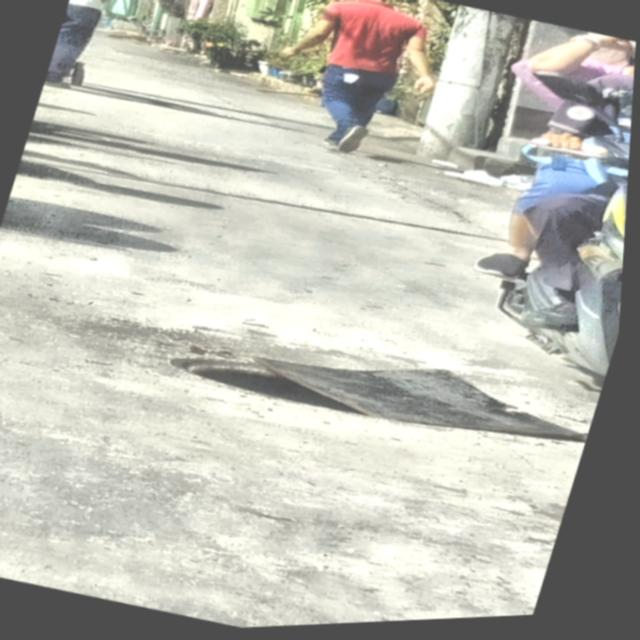open_manhole: (171, 358, 546, 437)
